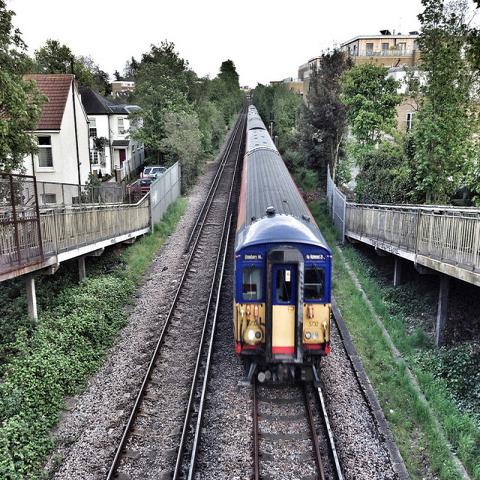car: (140, 167, 168, 178)
